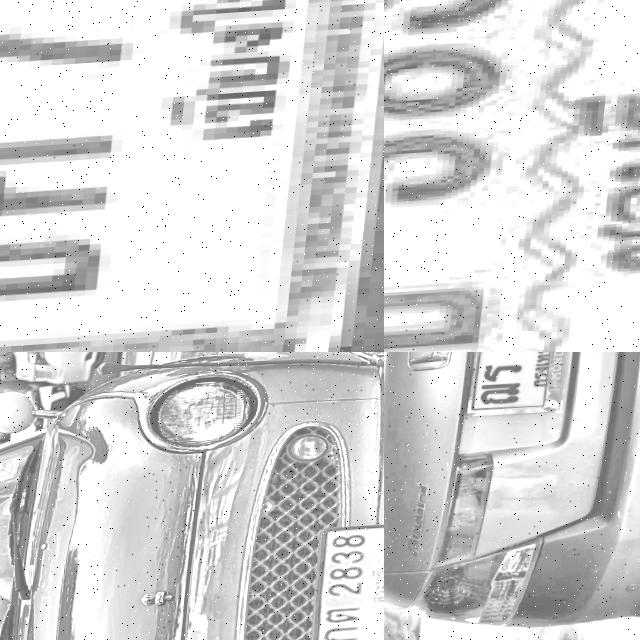license-plate: (0, 0, 384, 352), (384, 0, 640, 352), (469, 352, 581, 421), (315, 530, 384, 640), (31, 372, 52, 381)
